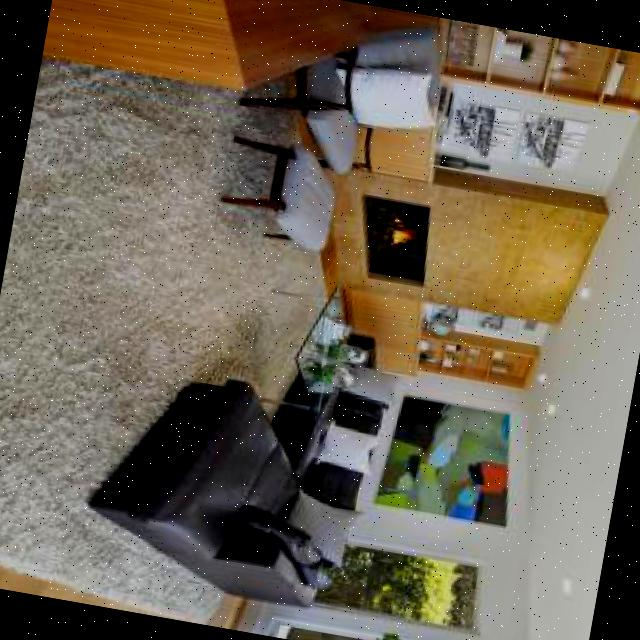fire: (379, 217, 423, 255)
